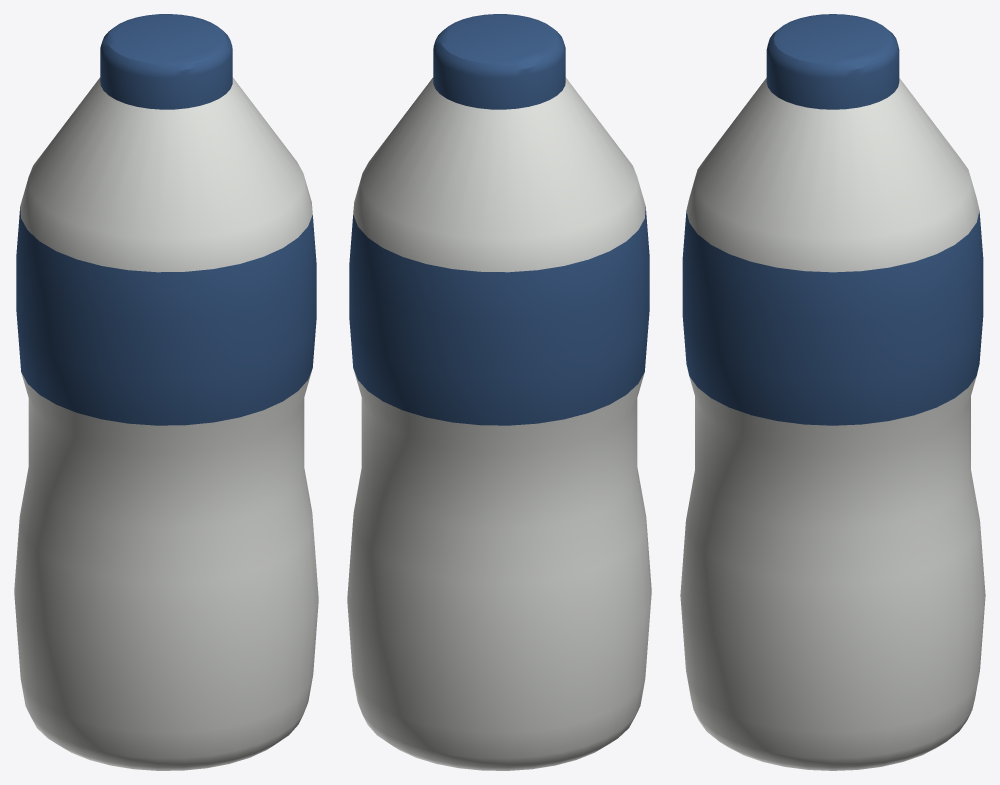
File: Water.fbx
3 views of the same model, side by side, from view 1: azimuth 30°, elevation 25°; view 2: azimuth 150°, elevation 25°; view 3: azimuth 270°, elevation 25° (orthographic).
Parts seen in each view (by area): view 1: Cylinder; view 2: Cylinder; view 3: Cylinder.
Boxes of the visible parts, x1=… form: Cylinder: x1=14, y1=14, x2=318, y2=770; Cylinder: x1=347, y1=14, x2=651, y2=770; Cylinder: x1=680, y1=14, x2=985, y2=770.
Bounding box in the file's own units: 221 × 546 × 221.
